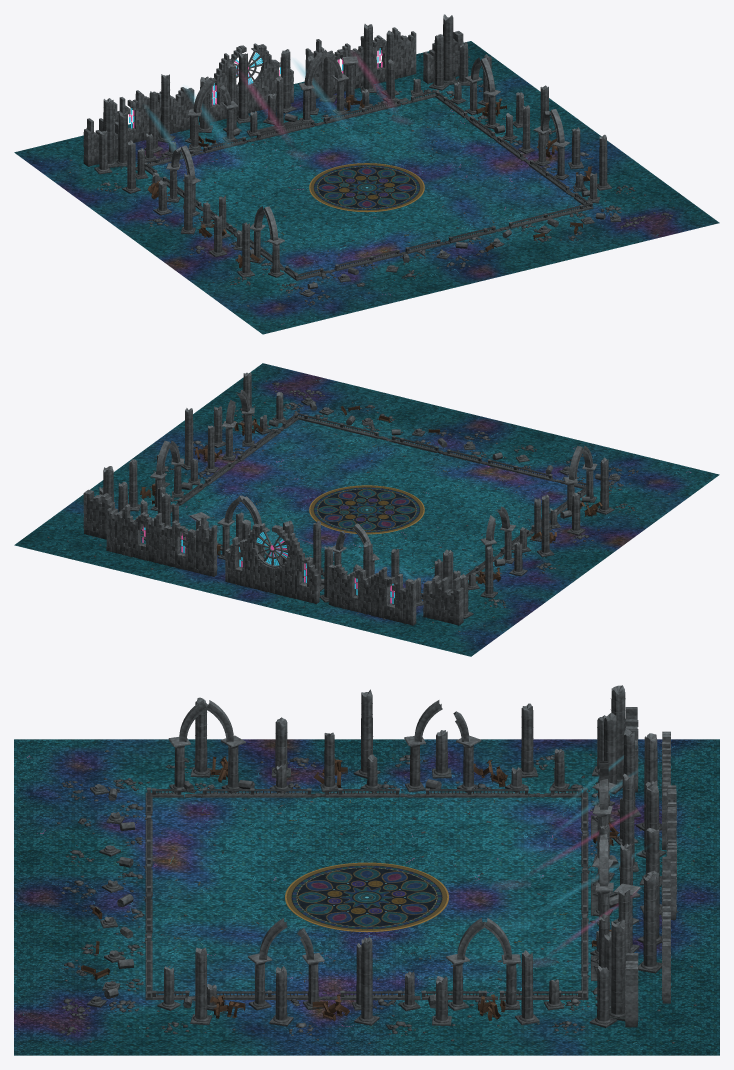
The model's file is cathedral.glb.
The picture shows the model from 3 angles, top to bottom: view 1: azimuth 30°, elevation 25°; view 2: azimuth 150°, elevation 25°; view 3: azimuth 270°, elevation 25°; orthographic projection. The views are drawn at different scales.
Visible parts, largest first — view 1: FLOOR_TILES, BOUNDS_NORTH, BOUNDS_EAST, BOUNDS_WEST, BOUNDS_SOUTH; view 2: FLOOR_TILES, BOUNDS_NORTH, BOUNDS_EAST, BOUNDS_WEST, BOUNDS_SOUTH; view 3: FLOOR_TILES, BOUNDS_NORTH, BOUNDS_WEST, BOUNDS_EAST, BOUNDS_SOUTH, PROPS_FLOOR_SCATTER.
Part boxes in pixels (x1,y1,x2,y2): FLOOR_TILES: (14,41,719,334); BOUNDS_NORTH: (83,14,469,174); BOUNDS_EAST: (435,54,681,217); BOUNDS_WEST: (69,140,301,310); BOUNDS_SOUTH: (279,202,672,306); FLOOR_TILES: (14,363,719,656); BOUNDS_NORTH: (83,466,473,625); BOUNDS_EAST: (47,372,318,556); BOUNDS_WEST: (424,445,670,634); BOUNDS_SOUTH: (272,382,638,491); FLOOR_TILES: (14,739,719,1055); BOUNDS_NORTH: (581,685,699,1027); BOUNDS_WEST: (68,689,687,797); BOUNDS_EAST: (63,918,696,1046); BOUNDS_SOUTH: (57,778,152,1035); PROPS_FLOOR_SCATTER: (157,800,575,995).
Bounding box in the file's own units: 140 × 19.93 × 132.
12 materials, 3 textured.
